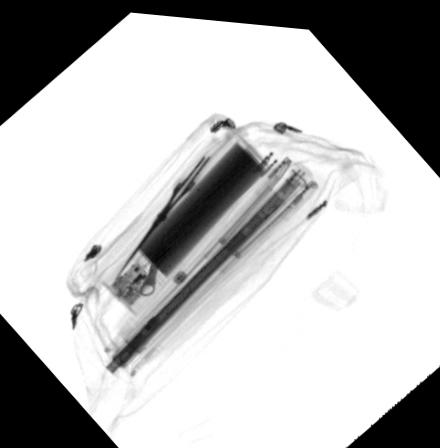Powerbank: (98, 123, 271, 313)
Scissors: (111, 125, 231, 280)
